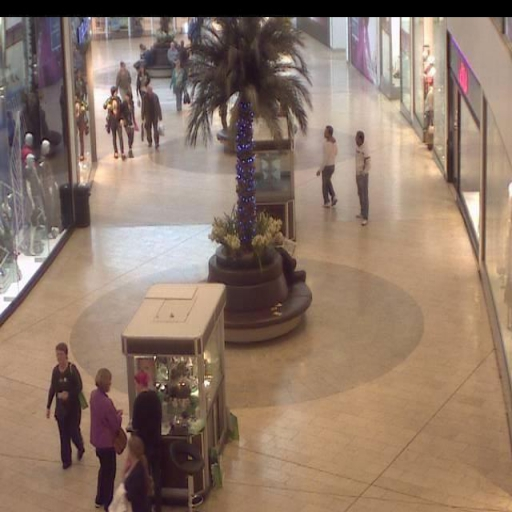person: (45, 341, 87, 465), (130, 367, 165, 512), (90, 366, 121, 512), (120, 436, 151, 512), (352, 126, 369, 224), (140, 84, 163, 146), (104, 87, 124, 158), (320, 124, 337, 204), (171, 59, 190, 111), (122, 92, 135, 157), (115, 61, 133, 94), (136, 64, 150, 85), (167, 40, 179, 60)
